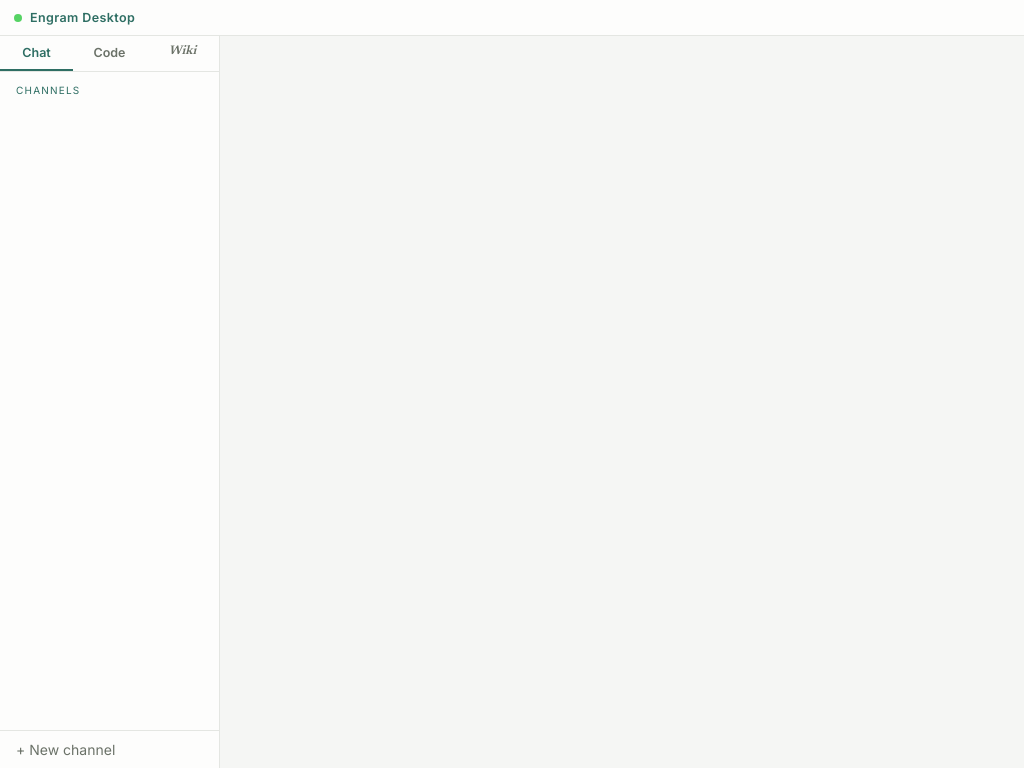
it: B3. 노력 배지(코드 채널 전용) › 슬라이더 팝오버는 좌 "더 빠르게" ↔ 우 "더 스마트하게" 5단계다
The image size is (1024, 768).
Click the text "Code": (110, 52) [94,45,126,60]
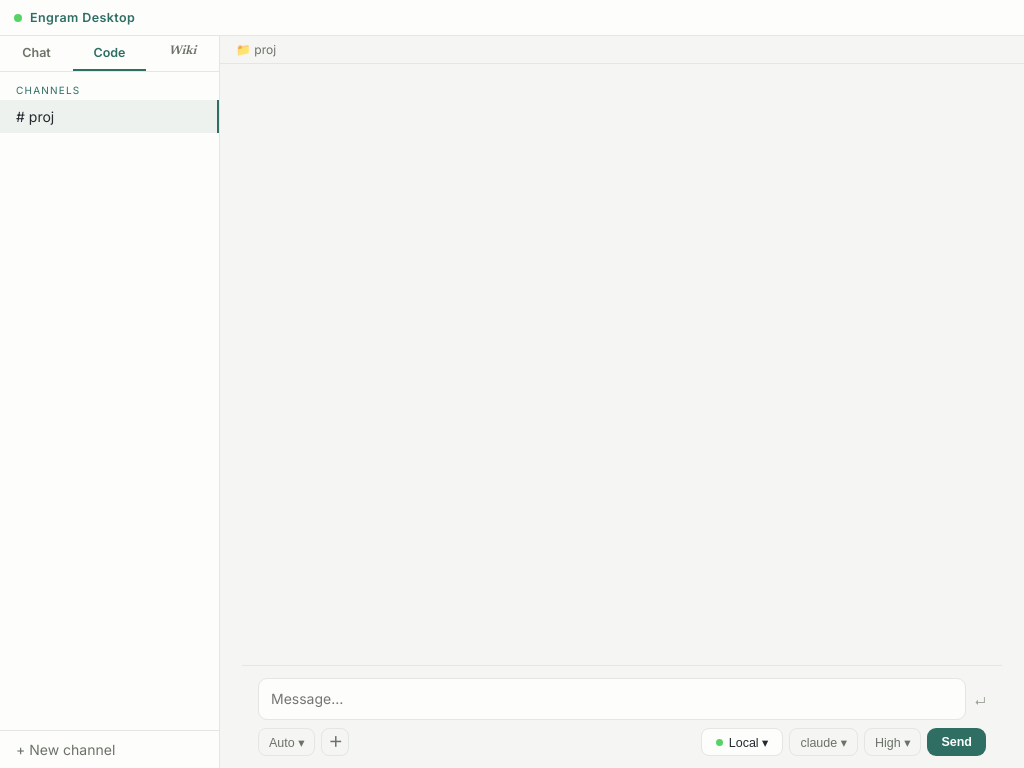
Expected: the text titled "C:/repo/proj" is shown, [220,36,1023,64]
Click the button with class "effortBadge": (893, 742) [864,728,922,756]
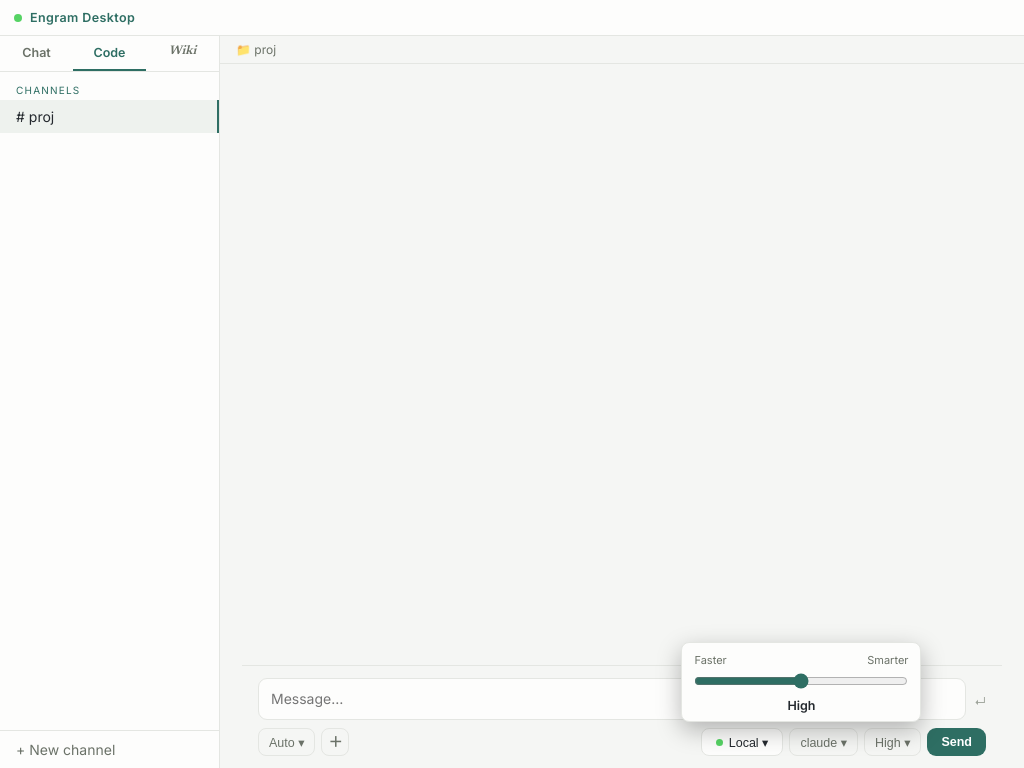
Expected: the text "Faster" is shown, [694,653,727,667]
Expected: the text "Smarter" is shown, [867,653,908,667]
Expected: the slider with class "effortSlider" holds "2", [694,673,908,689]
